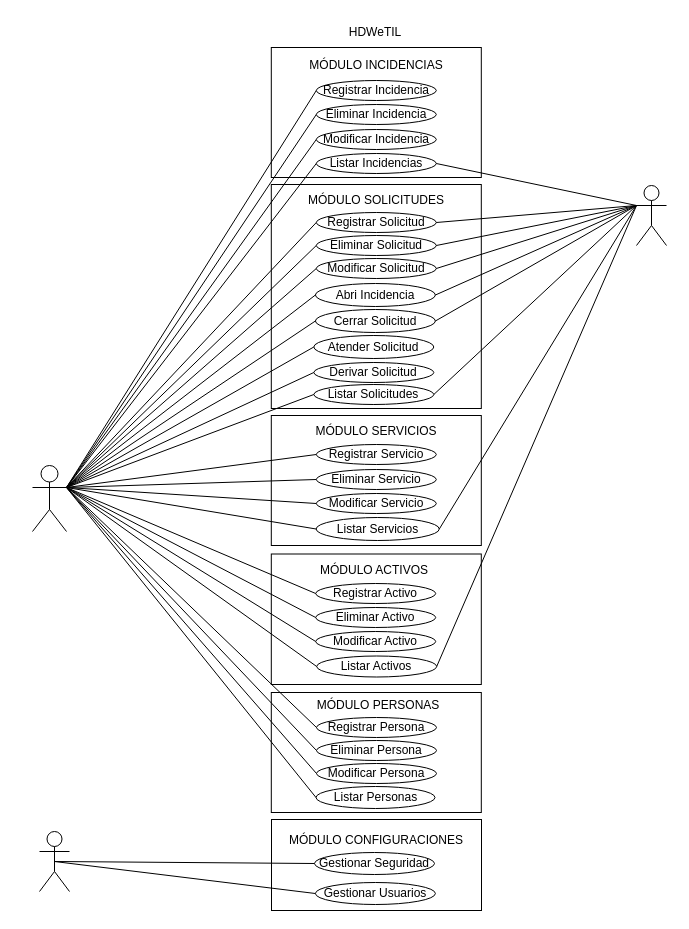
This 689x929 diagram has some shape labels left out. Each missing label, with the box of its shape:
Administrador: (38, 830, 70, 892)
Alumno: (636, 184, 666, 246)
Empleado: (32, 464, 66, 532)
